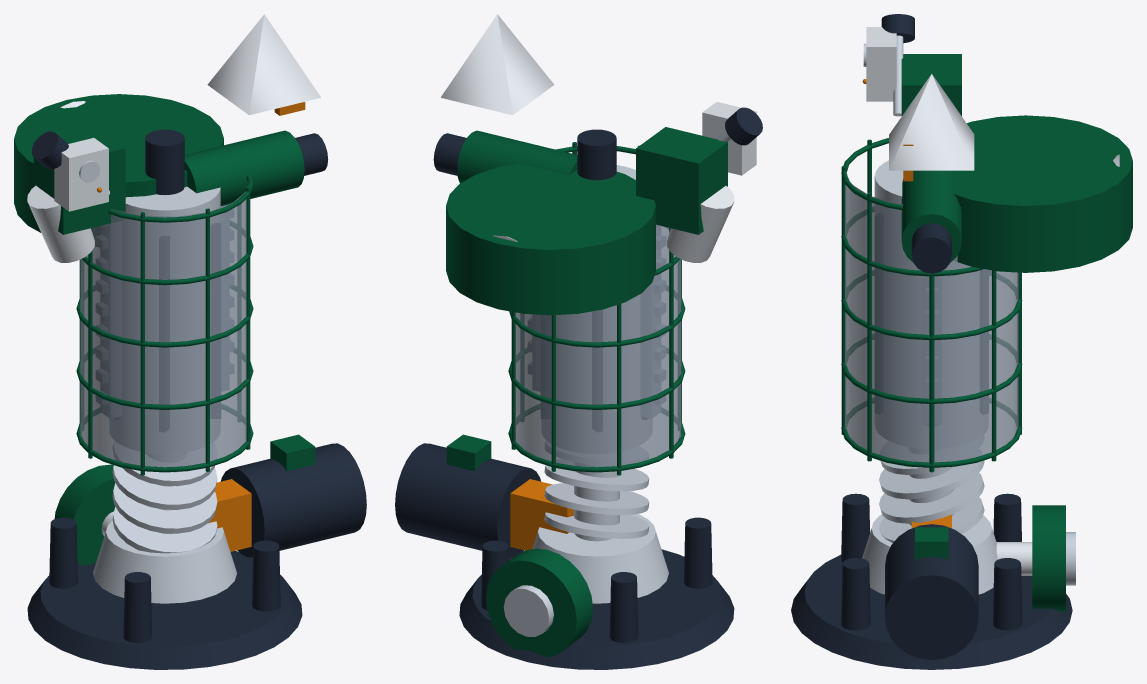
File: satake_vbf.glb
3 views of the same model, side by side, from view 1: azimuth 30°, elevation 25°; view 2: azimuth 150°, elevation 25°; view 3: azimuth 270°, elevation 25° (orthographic). The views are drawn at different scales.
Visible parts, largest first — view 1: Satake_Slotted_Screens, Satake_Base_Frame_Stand, Satake_Vertical_Steel_Rotor, Satake_Drive_Motor_75kW, Satake_Offal_Exhaust_Hood, Satake_Distribution_Scroll, Satake_Inlet_Screw_Feeder, Satake_Top_Outlet_Weighted_Flap, Satake_Feed_Inlet_Magnet, Satake_Beater_Bars, Satake_Air_Induction_Fan, Satake_Auto_Weight_CCU_Module; view 2: Satake_Slotted_Screens, Satake_Offal_Exhaust_Hood, Satake_Base_Frame_Stand, Satake_Drive_Motor_75kW, Satake_Vertical_Steel_Rotor, Satake_Top_Outlet_Weighted_Flap, Satake_Air_Induction_Fan, Satake_Distribution_Scroll, Satake_Feed_Inlet_Magnet, Satake_Inlet_Screw_Feeder, Satake_Beater_Bars, Satake_Auto_Weight_CCU_Module; view 3: Satake_Slotted_Screens, Satake_Offal_Exhaust_Hood, Satake_Base_Frame_Stand, Satake_Vertical_Steel_Rotor, Satake_Drive_Motor_75kW, Satake_Distribution_Scroll, Satake_Feed_Inlet_Magnet, Satake_Inlet_Screw_Feeder, Satake_Air_Induction_Fan, Satake_Top_Outlet_Weighted_Flap, Satake_Auto_Weight_CCU_Module, Satake_Beater_Bars.
Boxes of the visible parts, x1,y1,x2,y2 form: Satake_Slotted_Screens: (76, 174, 253, 475); Satake_Base_Frame_Stand: (27, 517, 302, 669); Satake_Vertical_Steel_Rotor: (110, 129, 220, 453); Satake_Drive_Motor_75kW: (208, 434, 366, 557); Satake_Offal_Exhaust_Hood: (14, 94, 223, 246); Satake_Distribution_Scroll: (112, 441, 217, 553); Satake_Inlet_Screw_Feeder: (184, 130, 328, 205); Satake_Top_Outlet_Weighted_Flap: (27, 127, 125, 262); Satake_Feed_Inlet_Magnet: (207, 14, 320, 115); Satake_Beater_Bars: (96, 204, 233, 418); Satake_Air_Induction_Fan: (54, 464, 115, 565); Satake_Auto_Weight_CCU_Module: (54, 138, 108, 211); Satake_Slotted_Screens: (508, 142, 685, 475); Satake_Offal_Exhaust_Hood: (446, 163, 655, 315); Satake_Base_Frame_Stand: (459, 514, 734, 669); Satake_Drive_Motor_75kW: (395, 434, 573, 557); Satake_Vertical_Steel_Rotor: (541, 129, 651, 453); Satake_Top_Outlet_Weighted_Flap: (636, 107, 762, 262); Satake_Air_Induction_Fan: (486, 548, 592, 657); Satake_Distribution_Scroll: (544, 441, 649, 541); Satake_Feed_Inlet_Magnet: (441, 14, 554, 115); Satake_Inlet_Screw_Feeder: (433, 130, 577, 183); Satake_Beater_Bars: (528, 225, 665, 418); Satake_Auto_Weight_CCU_Module: (702, 102, 756, 175); Satake_Slotted_Screens: (841, 138, 1022, 472); Satake_Offal_Exhaust_Hood: (954, 115, 1132, 272); Satake_Base_Frame_Stand: (791, 493, 1072, 669); Satake_Vertical_Steel_Rotor: (874, 160, 988, 448); Satake_Drive_Motor_75kW: (885, 514, 978, 660); Satake_Distribution_Scroll: (879, 435, 984, 542); Satake_Feed_Inlet_Magnet: (889, 74, 974, 181); Satake_Inlet_Screw_Feeder: (901, 170, 961, 273); Satake_Air_Induction_Fan: (996, 505, 1075, 612); Satake_Top_Outlet_Weighted_Flap: (881, 14, 961, 116); Satake_Auto_Weight_CCU_Module: (862, 27, 896, 101); Satake_Beater_Bars: (922, 276, 941, 423).
Size of the model in its own units: 1.15 by 1.93 by 1.02.
